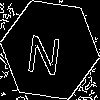N: (25, 25, 65, 76)
